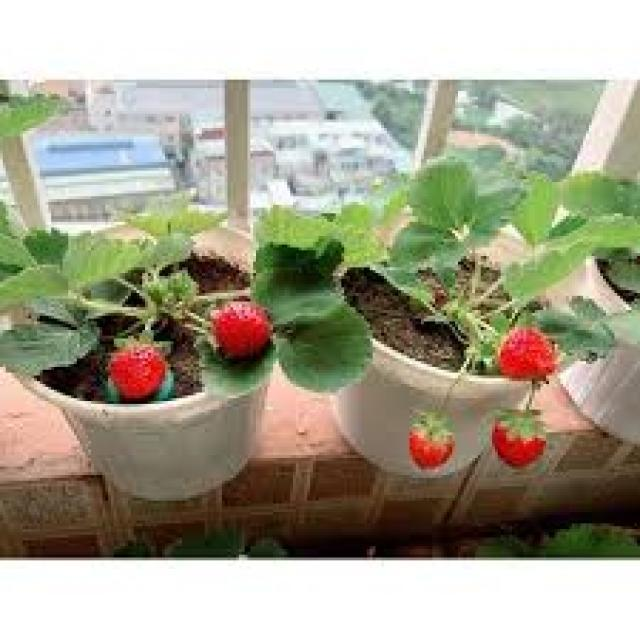Fruta sana: (210, 300, 276, 362), (502, 320, 556, 388), (492, 409, 550, 471), (107, 343, 167, 400), (407, 406, 455, 470)
